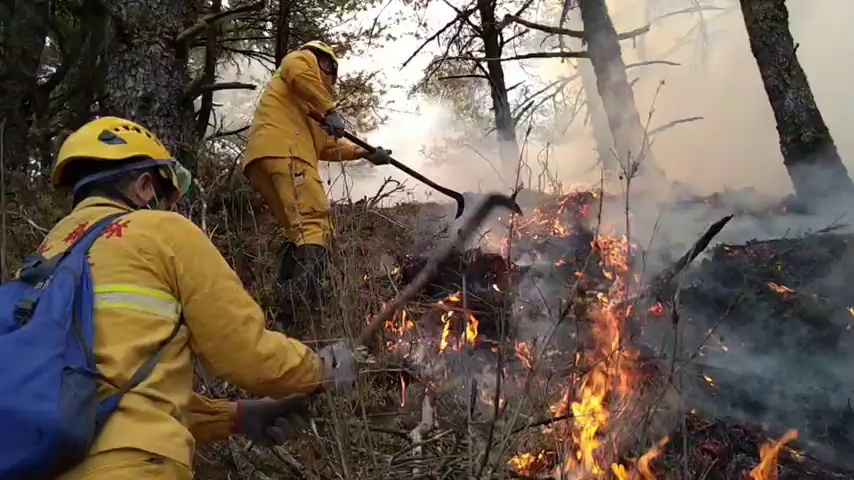fire: (564, 364, 628, 479), (595, 228, 636, 304), (749, 430, 795, 480), (441, 312, 478, 351), (549, 217, 566, 234)
